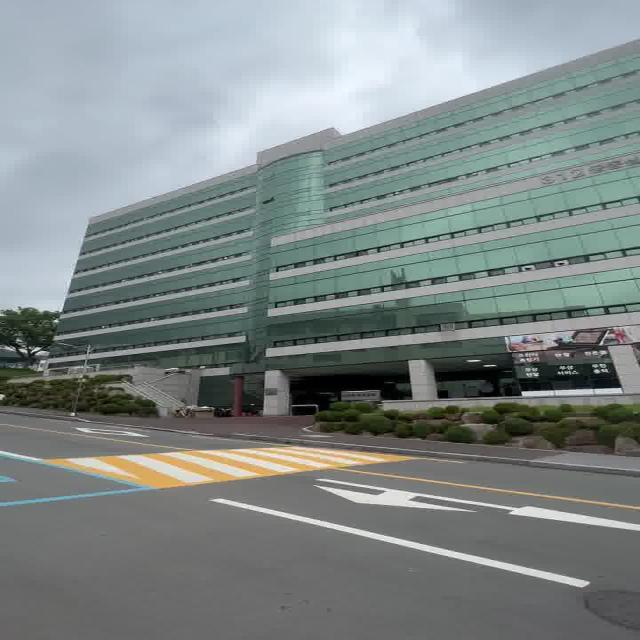building: (59, 114, 636, 336)
